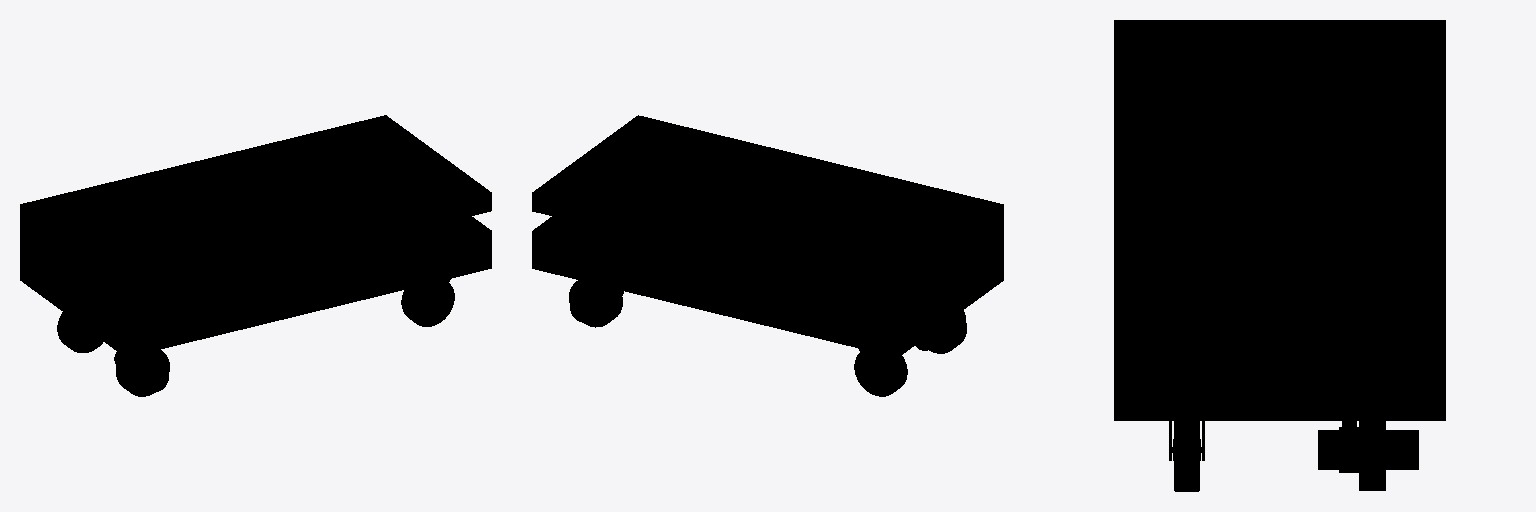
URDF robot description (agv_urdf):
<?xml version='1.0' encoding='UTF-8'?>
<robot name="agv_urdf">
  <link name="base_link">
    <inertial>
      <origin xyz="0.00879548020592815 0.0 -0.00224909454812159" rpy="0.0 -0.0 0.0"/>
      <mass value="287.973904356973"/>
      <inertia ixx="34.2025325428659" ixy="8.56952940977074e-15" ixz="-0.134064779208868" iyy="101.117560253562" iyz="5.72265930242648e-16" izz="122.880210687156"/>
    </inertial>
    <visual>
      <geometry>
        <mesh filename="package://agv_urdf/meshes/base_link.dae"/>
      </geometry>
      <material name=""/>
      <origin xyz="0.0 0.0 0.0" rpy="0.0 -0.0 0.0"/>
    </visual>
    <collision>
      <geometry>
        <mesh filename="package://agv_urdf/meshes/base_link.dae"/>
      </geometry>
      <origin xyz="0.0 0.0 0.0" rpy="0.0 -0.0 0.0"/>
    </collision>
  </link>
  <link name="steer_f_link">
    <inertial>
      <origin xyz="-0.00717555718342811 -0.0278525654563684 -0.044283884059445" rpy="0.0 -0.0 0.0"/>
      <mass value="26.0885663948635"/>
      <inertia ixx="0.193845103804711" ixy="-0.00184343974656806" ixz="0.00379714309592857" iyy="0.194092909845274" iyz="-0.0442523017048679" izz="0.153445505801553"/>
    </inertial>
    <visual>
      <geometry>
        <mesh filename="package://agv_urdf/meshes/steer_f_link.dae"/>
      </geometry>
      <material name=""/>
      <origin xyz="0.0 0.0 0.0" rpy="0.0 -0.0 0.0"/>
    </visual>
    <collision>
      <geometry>
        <mesh filename="package://agv_urdf/meshes/steer_f_link.dae"/>
      </geometry>
      <origin xyz="0.0 0.0 0.0" rpy="0.0 -0.0 0.0"/>
    </collision>
  </link>
  <link name="traction_f_link">
    <inertial>
      <origin xyz="0.0 0.0 0.00540765020848077" rpy="0.0 -0.0 0.0"/>
      <mass value="48.2721089005952"/>
      <inertia ixx="0.35604448663777" ixy="6.6317648394305e-18" ixz="7.79148194529945e-20" iyy="0.35604448663777" iyz="-3.4717407777933e-18" izz="0.266277291373223"/>
    </inertial>
    <visual>
      <geometry>
        <mesh filename="package://agv_urdf/meshes/traction_f_link.dae"/>
      </geometry>
      <material name=""/>
      <origin xyz="0.0 0.0 0.0" rpy="0.0 -0.0 0.0"/>
    </visual>
    <collision>
      <geometry>
        <mesh filename="package://agv_urdf/meshes/traction_f_link.dae"/>
      </geometry>
      <origin xyz="0.0 0.0 0.0" rpy="0.0 -0.0 0.0"/>
    </collision>
  </link>
  <link name="castor_f_link">
    <inertial>
      <origin xyz="-0.0116716387839898 -4.44089209850063e-16 -0.0284449692331434" rpy="0.0 -0.0 0.0"/>
      <mass value="7.96892334713999"/>
      <inertia ixx="0.0416073919894557" ixy="-1.06300246007598e-18" ixz="-0.0110442398178131" iyy="0.0422608740667285" iyz="1.2261569335218e-18" izz="0.0224352820122703"/>
    </inertial>
    <visual>
      <geometry>
        <mesh filename="package://agv_urdf/meshes/castor_f_link.dae"/>
      </geometry>
      <material name=""/>
      <origin xyz="0.0 0.0 0.0" rpy="0.0 -0.0 0.0"/>
    </visual>
    <collision>
      <geometry>
        <mesh filename="package://agv_urdf/meshes/castor_f_link.dae"/>
      </geometry>
      <origin xyz="0.0 0.0 0.0" rpy="0.0 -0.0 0.0"/>
    </collision>
  </link>
  <link name="castor_f_w_link">
    <inertial>
      <origin xyz="1.11022302462516e-16 -5.55111512312578e-17 0.0" rpy="0.0 -0.0 0.0"/>
      <mass value="0.366852188066652"/>
      <inertia ixx="0.00186124782211862" ixy="-5.01587969640318e-21" ixz="-4.46827755231372e-20" iyy="0.00186124782211862" iyz="5.1122589039438e-22" izz="0.00342739082507927"/>
    </inertial>
    <visual>
      <geometry>
        <mesh filename="package://agv_urdf/meshes/castor_f_w_link.dae"/>
      </geometry>
      <material name=""/>
      <origin xyz="0.0 0.0 0.0" rpy="0.0 -0.0 0.0"/>
    </visual>
    <collision>
      <geometry>
        <mesh filename="package://agv_urdf/meshes/castor_f_w_link.dae"/>
      </geometry>
      <origin xyz="0.0 0.0 0.0" rpy="0.0 -0.0 0.0"/>
    </collision>
  </link>
  <link name="steer_b_link">
    <inertial>
      <origin xyz="0.00717555718342833 0.0278525654563677 -0.044283884059445" rpy="0.0 -0.0 0.0"/>
      <mass value="26.0885663948635"/>
      <inertia ixx="0.193845103804712" ixy="-0.00184343974656803" ixz="-0.00379714309592856" iyy="0.194092909845275" iyz="0.0442523017048681" izz="0.153445505801553"/>
    </inertial>
    <visual>
      <geometry>
        <mesh filename="package://agv_urdf/meshes/steer_b_link.dae"/>
      </geometry>
      <material name=""/>
      <origin xyz="0.0 0.0 0.0" rpy="0.0 -0.0 0.0"/>
    </visual>
    <collision>
      <geometry>
        <mesh filename="package://agv_urdf/meshes/steer_b_link.dae"/>
      </geometry>
      <origin xyz="0.0 0.0 0.0" rpy="0.0 -0.0 0.0"/>
    </collision>
  </link>
  <link name="traction_b_link">
    <inertial>
      <origin xyz="1.11022302462516e-16 5.55111512312578e-17 -0.00540765020848033" rpy="0.0 -0.0 0.0"/>
      <mass value="48.2721089005952"/>
      <inertia ixx="0.3560444866378" ixy="-1.17396581144442e-17" ixz="-4.58787554266472e-18" iyy="0.3560444866378" iyz="1.31824527773656e-17" izz="0.266277291373223"/>
    </inertial>
    <visual>
      <geometry>
        <mesh filename="package://agv_urdf/meshes/traction_b_link.dae"/>
      </geometry>
      <material name=""/>
      <origin xyz="0.0 0.0 0.0" rpy="0.0 -0.0 0.0"/>
    </visual>
    <collision>
      <geometry>
        <mesh filename="package://agv_urdf/meshes/traction_b_link.dae"/>
      </geometry>
      <origin xyz="0.0 0.0 0.0" rpy="0.0 -0.0 0.0"/>
    </collision>
  </link>
  <link name="castor_b_link">
    <inertial>
      <origin xyz="-0.0116716387839898 0.0 -0.0284449692331483" rpy="0.0 -0.0 0.0"/>
      <mass value="7.96892334714"/>
      <inertia ixx="0.0416073919895143" ixy="2.45730336529973e-19" ixz="-0.0110442398178125" iyy="0.0422608740667871" iyz="2.90832919792927e-18" izz="0.0224352820122703"/>
    </inertial>
    <visual>
      <geometry>
        <mesh filename="package://agv_urdf/meshes/castor_b_link.dae"/>
      </geometry>
      <material name=""/>
      <origin xyz="0.0 0.0 0.0" rpy="0.0 -0.0 0.0"/>
    </visual>
    <collision>
      <geometry>
        <mesh filename="package://agv_urdf/meshes/castor_b_link.dae"/>
      </geometry>
      <origin xyz="0.0 0.0 0.0" rpy="0.0 -0.0 0.0"/>
    </collision>
  </link>
  <link name="castor_b_w_link">
    <inertial>
      <origin xyz="0.0 5.55111512312578e-17 4.44089209850063e-16" rpy="0.0 -0.0 0.0"/>
      <mass value="0.366852188066652"/>
      <inertia ixx="0.00186124782211861" ixy="-5.01587969640399e-21" ixz="2.5035980350045e-21" iyy="0.00186124782211861" iyz="5.11225890394175e-22" izz="0.00342739082507928"/>
    </inertial>
    <visual>
      <geometry>
        <mesh filename="package://agv_urdf/meshes/castor_b_w_link.dae"/>
      </geometry>
      <material name=""/>
      <origin xyz="0.0 0.0 0.0" rpy="0.0 -0.0 0.0"/>
    </visual>
    <collision>
      <geometry>
        <mesh filename="package://agv_urdf/meshes/castor_b_w_link.dae"/>
      </geometry>
      <origin xyz="0.0 0.0 0.0" rpy="0.0 -0.0 0.0"/>
    </collision>
  </link>
  <link name="lidar_link">
    <inertial>
      <origin xyz="0.0 0.0 -0.00690172767252528" rpy="0.0 -0.0 0.0"/>
      <mass value="1.42972960856401"/>
      <inertia ixx="0.000735367328208808" ixy="5.02540064106494e-20" ixz="4.40395213278562e-20" iyy="0.000735367328208806" iyz="-8.70508206688143e-19" izz="0.000854963034083045"/>
    </inertial>
    <visual>
      <geometry>
        <mesh filename="package://agv_urdf/meshes/lidar_link.dae"/>
      </geometry>
      <material name=""/>
      <origin xyz="0.0 0.0 0.0" rpy="0.0 -0.0 0.0"/>
    </visual>
    <collision>
      <geometry>
        <mesh filename="package://agv_urdf/meshes/lidar_link.dae"/>
      </geometry>
      <origin xyz="0.0 0.0 0.0" rpy="0.0 -0.0 0.0"/>
    </collision>
  </link>
  <joint name="steer_f_joint" type="continuous">
    <dynamics damping="0.1" friction="0.1"/>
    <limit effort="100.0" velocity="100.0" lower="0.1" upper="1.0"/>
    <parent link="base_link"/>
    <child link="steer_f_link"/>
    <axis xyz="0. 0. 1."/>
    <origin xyz="0.78 0.28 -0.219" rpy="0.0 -0.0 0.0"/>
  </joint>
  <joint name="traction_f_joint" type="continuous">
    <dynamics damping="0.1" friction="0.1"/>
    <limit effort="100.0" velocity="100.0" lower="0.1" upper="1.0"/>
    <parent link="steer_f_link"/>
    <child link="traction_f_link"/>
    <axis xyz="0. 0. 1."/>
    <origin xyz="0.0 -0.0005 -0.1808" rpy="1.5708 -0.0 0.0"/>
  </joint>
  <joint name="castor_f_joint" type="continuous">
    <dynamics damping="0.1" friction="0.1"/>
    <limit effort="100.0" velocity="100.0" lower="0.1" upper="1.0"/>
    <parent link="base_link"/>
    <child link="castor_f_link"/>
    <axis xyz="0. 0. 1."/>
    <origin xyz="0.85459 -0.28 -0.2204" rpy="0.0 -0.0 0.0"/>
  </joint>
  <joint name="castor_f_w_joint" type="continuous">
    <dynamics damping="0.1" friction="0.1"/>
    <limit effort="100.0" velocity="100.0" lower="0.1" upper="0.1"/>
    <parent link="castor_f_link"/>
    <child link="castor_f_w_link"/>
    <axis xyz="0. 0. 1."/>
    <origin xyz="-0.07459 0.0 -0.1794" rpy="1.5708 -0.0 0.0"/>
  </joint>
  <joint name="steer_b_joint" type="continuous">
    <dynamics damping="0.1" friction="0.1"/>
    <limit effort="100.0" velocity="100.0" lower="0.1" upper="1.0"/>
    <parent link="base_link"/>
    <child link="steer_b_link"/>
    <axis xyz="0. 0. 1."/>
    <origin xyz="-0.78 -0.28 -0.219" rpy="0.0 -0.0 0.0"/>
  </joint>
  <joint name="traction_b_joint" type="continuous">
    <dynamics damping="0.1" friction="0.1"/>
    <limit effort="100.0" velocity="100.0" lower="0.1" upper="1.0"/>
    <parent link="steer_b_link"/>
    <child link="traction_b_link"/>
    <axis xyz="0. 0. 1."/>
    <origin xyz="0.0 0.0005 -0.1808" rpy="1.5708 -0.0 0.0"/>
  </joint>
  <joint name="castor_b_joint" type="continuous">
    <dynamics damping="0.1" friction="0.1"/>
    <limit effort="100.0" velocity="100.0" lower="0.1" upper="1.0"/>
    <parent link="base_link"/>
    <child link="castor_b_link"/>
    <axis xyz="0. 0. 1."/>
    <origin xyz="-0.70541 0.28 -0.2204" rpy="0.0 -0.0 0.0"/>
  </joint>
  <joint name="castor_b_w_joint" type="continuous">
    <dynamics damping="0.1" friction="0.1"/>
    <limit effort="100.0" velocity="100.0" lower="0.1" upper="1.0"/>
    <parent link="castor_b_link"/>
    <child link="castor_b_w_link"/>
    <axis xyz="0. 0. 1."/>
    <origin xyz="-0.07459 0.0 -0.1794" rpy="1.5708 -0.0 0.0"/>
  </joint>
  <joint name="lidar_joint" type="fixed">
    <limit effort="0.0" velocity="0.0"/>
    <parent link="base_link"/>
    <child link="lidar_link"/>
    <axis xyz="0. 0. 0."/>
    <origin xyz="0.9675 0.0 0.0299999999999998" rpy="0.0 -0.0 0.0"/>
  </joint>
  <material name="">
    <color rgba="0.79215686 0.81960784 0.93333333 1.        "/>
  </material>
</robot>

--- Facts derived from the render (not from the file) ---
3 views of the same robot in one strip: view 1: azimuth 30°, elevation 25°; view 2: azimuth 150°, elevation 25°; view 3: azimuth 270°, elevation 25° (orthographic).
Model agv_urdf with 10 links and 9 joints (8 continuous, 1 fixed), rooted at base_link, posed every joint at zero.
Links seen in each view (by area): view 1: base_link, traction_b_link, castor_f_w_link, castor_b_w_link; view 2: base_link, traction_f_link, castor_b_w_link, traction_b_link; view 3: base_link, traction_f_link, castor_f_w_link, steer_f_link.
Link boxes in pixels (left/top/right/bottom): base_link: left=20, top=115, right=491, bottom=357; traction_b_link: left=114, top=350, right=169, bottom=396; castor_f_w_link: left=401, top=283, right=454, bottom=326; castor_b_w_link: left=57, top=312, right=103, bottom=352; base_link: left=532, top=115, right=1003, bottom=357; traction_f_link: left=569, top=280, right=623, bottom=327; castor_b_w_link: left=854, top=353, right=907, bottom=396; traction_b_link: left=915, top=310, right=966, bottom=353; base_link: left=1114, top=20, right=1445, bottom=420; traction_f_link: left=1318, top=421, right=1418, bottom=490; castor_f_w_link: left=1173, top=421, right=1200, bottom=491; steer_f_link: left=1342, top=421, right=1356, bottom=472.
Size in the robot's own frame: 2 by 1 by 0.7248 metres.
Meshes: 10 distinct files referenced, 10 mesh visuals loaded (10 Collada DAE).
